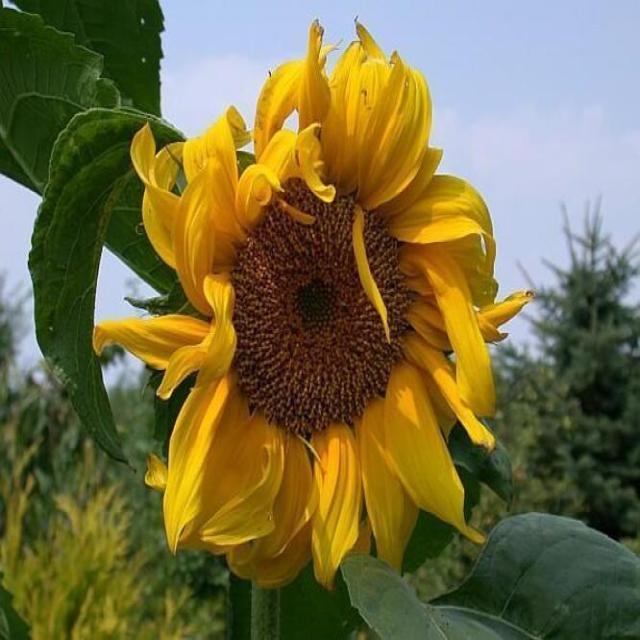sunflower: (106, 14, 531, 608)
